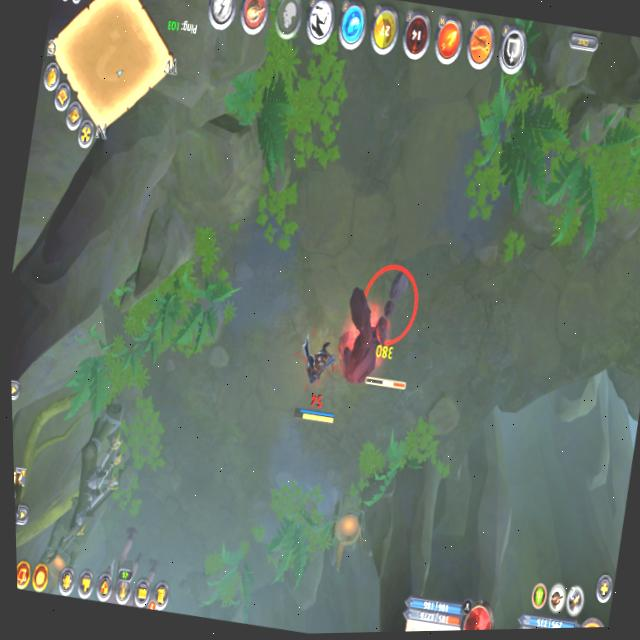ore: (332, 255, 434, 401), (96, 506, 156, 608), (135, 550, 168, 610)
red: (279, 316, 352, 433)
